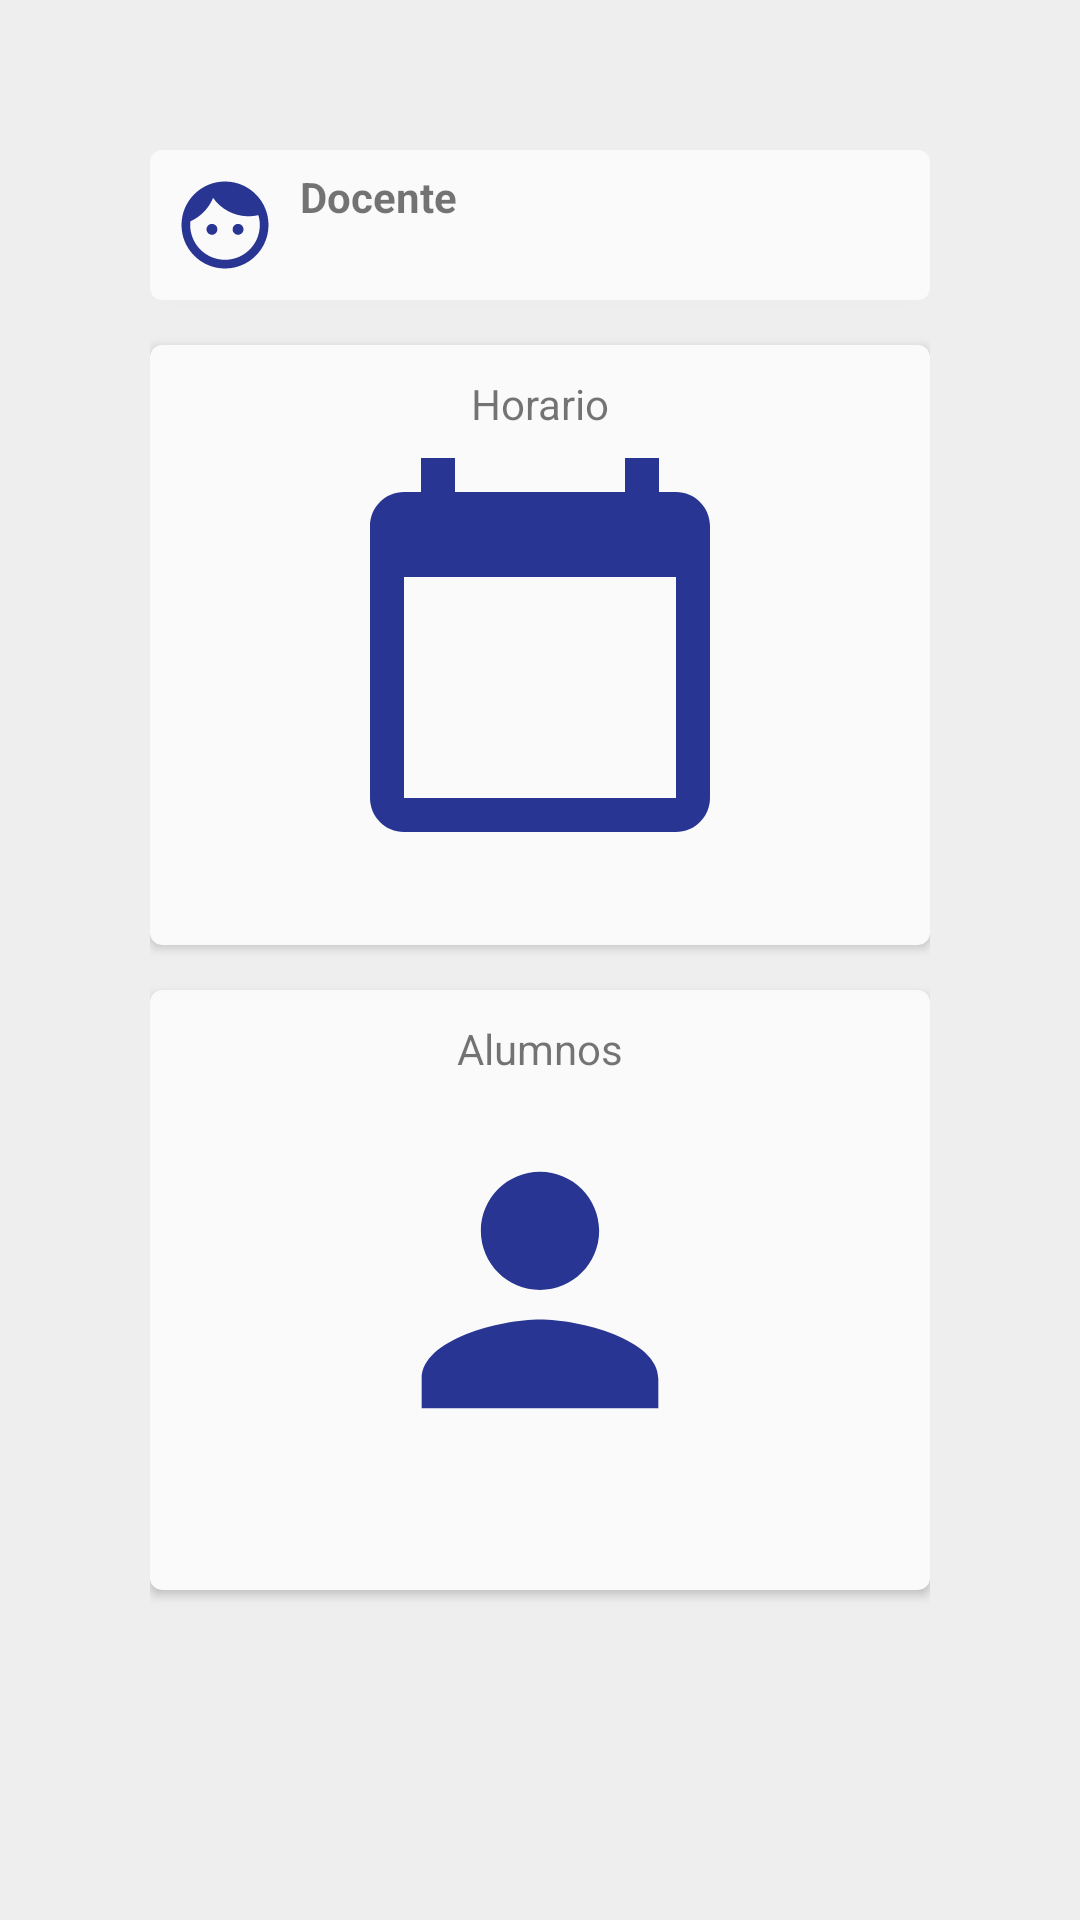

Icons on this 1080 × 1920 Android screen, each with its box as [left=x1, top=y1, right=x2, bottom=y2]:
face user: [left=150, top=150, right=300, bottom=300]
